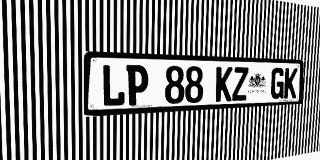8: (165, 66, 185, 104), (185, 66, 204, 103)
G: (270, 68, 285, 99)
K: (215, 67, 233, 102), (284, 68, 298, 99)
L: (101, 64, 125, 107)
P: (126, 65, 149, 106)
Z: (232, 67, 249, 101)
